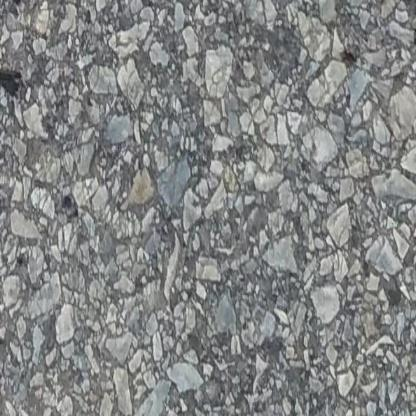Cracks: (391, 0, 416, 58)
